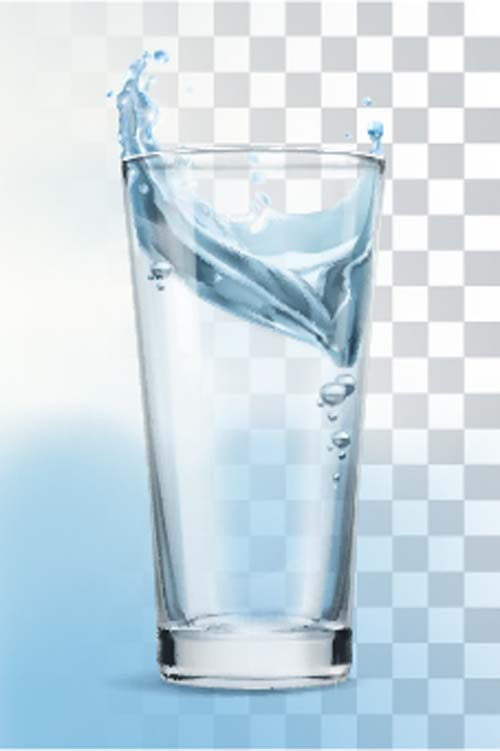glass of water: (126, 165, 353, 689)
